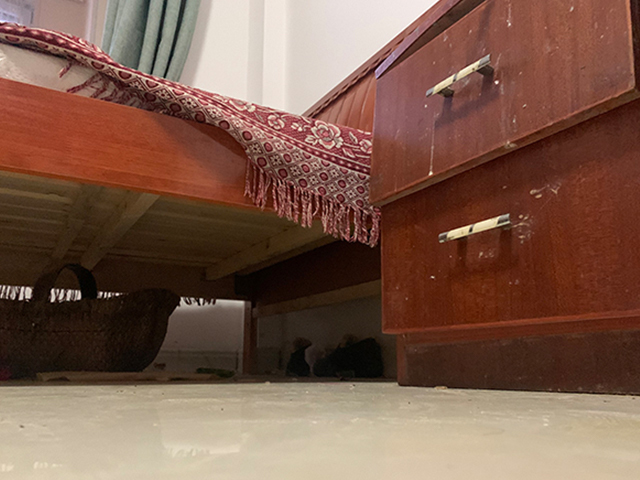bed: (1, 19, 374, 378)
cabinet: (369, 1, 640, 396)
